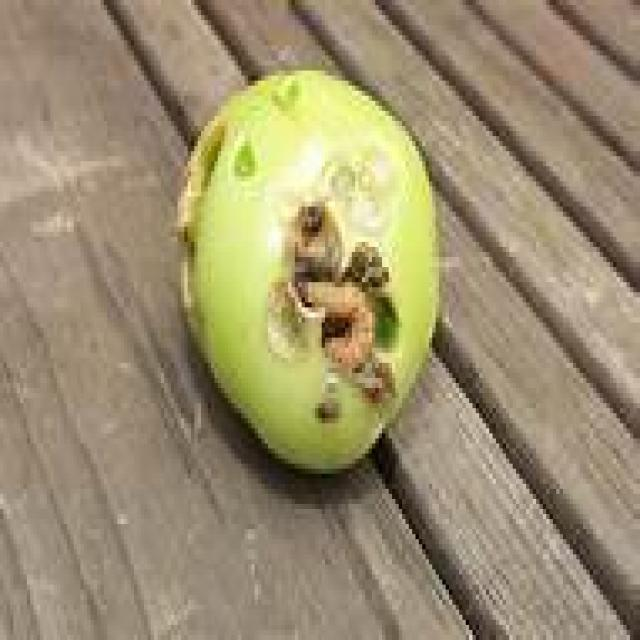Anthracnose: (184, 70, 439, 468)
